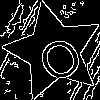O: (28, 26, 88, 86)
